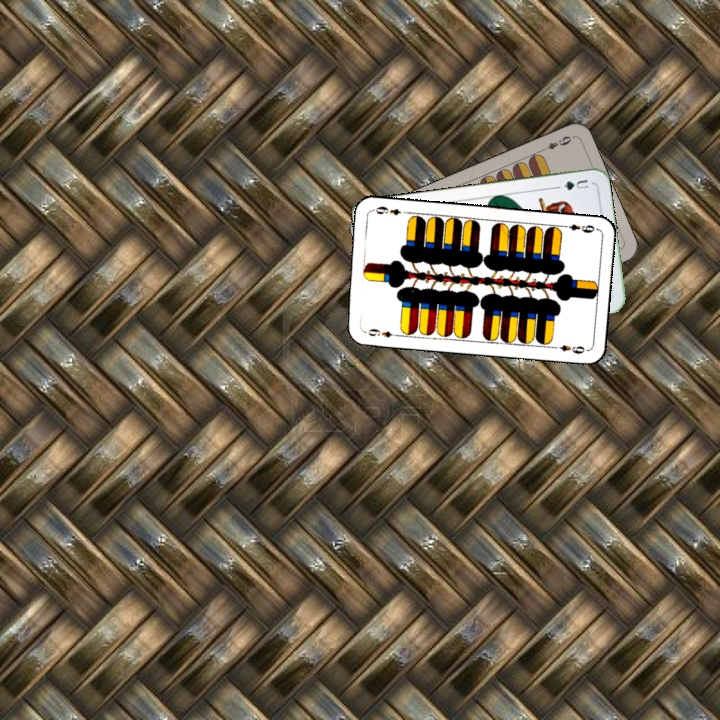E9: (537, 132, 574, 154), (360, 324, 401, 340), (558, 220, 599, 235)
GU: (553, 175, 591, 193)
